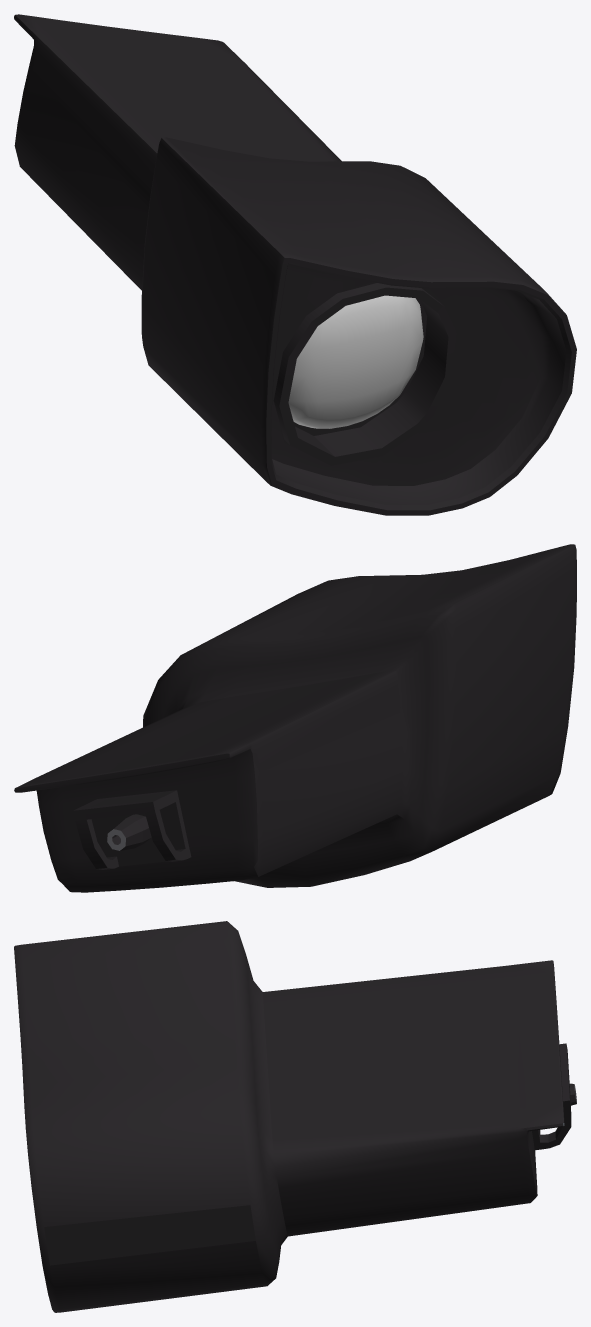
File: eyeB.obj
The picture shows the model from 3 angles, top to bottom: view 1: azimuth 30°, elevation 25°; view 2: azimuth 150°, elevation 25°; view 3: azimuth 270°, elevation 25°; orthographic projection. The views are drawn at different scales.
Parts seen in each view (by area): view 1: body:eyes_low, body:eyes_lowpolySurface233, polySurface1 body:eyes_lowFBXASC046001, body:eyes_lowpolySurface241, body:eyes_lowpolySurface232, body:eyes_lowpolySurface240, body:eyes_lowpolySurface231, body:eyes_lowpolySurface239, body:eyes_lowpolySurface242; view 2: body:eyes_low, body:eyes_lowpolySurface230, body:eyes_lowpolySurface251, body:eyes_lowpolySurface252, body:eyes_lowpolySurface237, body:eyes_lowpolySurface247, body:eyes_lowpolySurface249; view 3: body:eyes_low, body:eyes_lowpolySurface248.
Boxes of the visible parts, bbox=[...] form: body:eyes_low: bbox=[14, 14, 576, 515]; body:eyes_lowpolySurface233: bbox=[271, 263, 566, 504]; polySurface1 body:eyes_lowFBXASC046001: bbox=[288, 295, 423, 428]; body:eyes_lowpolySurface241: bbox=[295, 300, 448, 456]; body:eyes_lowpolySurface232: bbox=[266, 258, 576, 515]; body:eyes_lowpolySurface240: bbox=[279, 287, 456, 465]; body:eyes_lowpolySurface231: bbox=[271, 263, 571, 510]; body:eyes_lowpolySurface239: bbox=[273, 283, 444, 444]; body:eyes_lowpolySurface242: bbox=[293, 298, 427, 435]; body:eyes_low: bbox=[15, 544, 576, 887]; body:eyes_lowpolySurface230: bbox=[36, 749, 257, 892]; body:eyes_lowpolySurface251: bbox=[97, 802, 185, 866]; body:eyes_lowpolySurface252: bbox=[73, 802, 175, 868]; body:eyes_lowpolySurface237: bbox=[14, 753, 229, 792]; body:eyes_lowpolySurface247: bbox=[153, 790, 191, 860]; body:eyes_lowpolySurface249: bbox=[74, 790, 176, 810]; body:eyes_low: bbox=[14, 921, 563, 1312]; body:eyes_lowpolySurface248: bbox=[532, 1100, 571, 1150].
Bounding box in the file's own units: 97.94 × 103 × 176.
4 materials, 1 textured.
